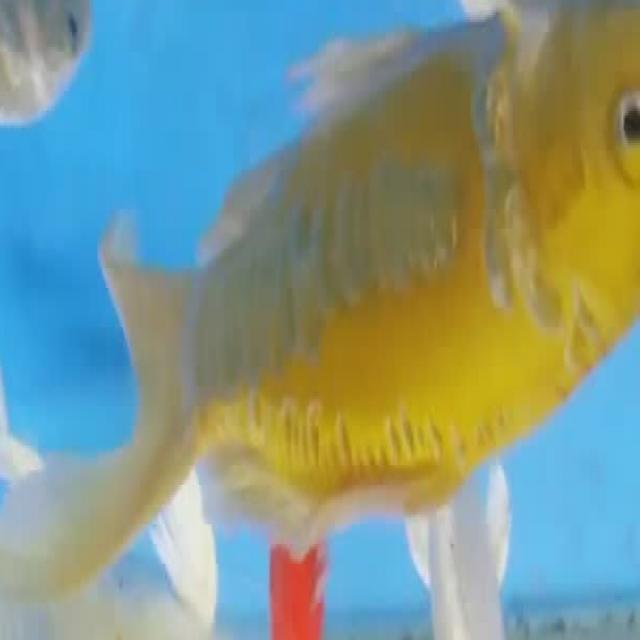fish: (1, 0, 640, 638)
